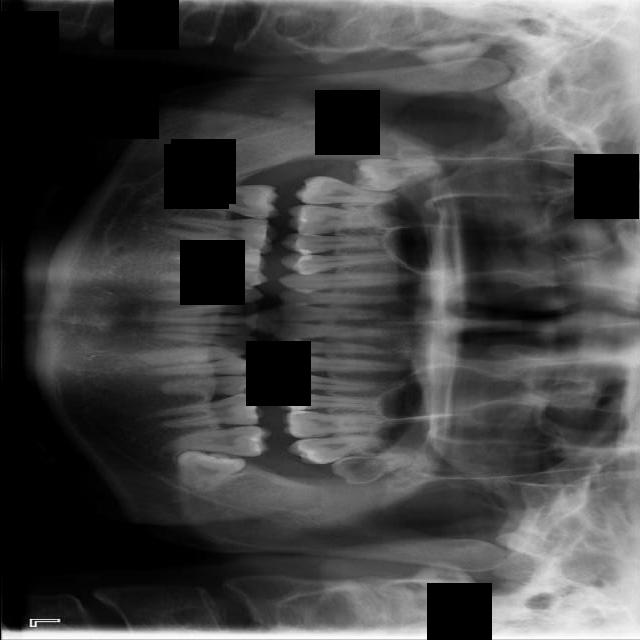3M ESPE Implant: (352, 157, 444, 192)
52: (226, 421, 272, 462), (285, 203, 336, 237), (227, 217, 273, 253), (279, 253, 327, 275), (339, 459, 385, 480), (272, 391, 313, 411), (273, 373, 314, 392), (282, 234, 322, 253), (227, 237, 250, 247)
73: (164, 251, 227, 267), (60, 558, 76, 566)
BioHorizons Implant: (284, 430, 392, 468)
BioLife Implant: (328, 449, 419, 488)
Biomet 3i Implant: (174, 450, 246, 496)
Blue Sky Bio Implant: (159, 418, 270, 458)
Caries: (296, 176, 399, 206)
Implant: (177, 181, 279, 221)
